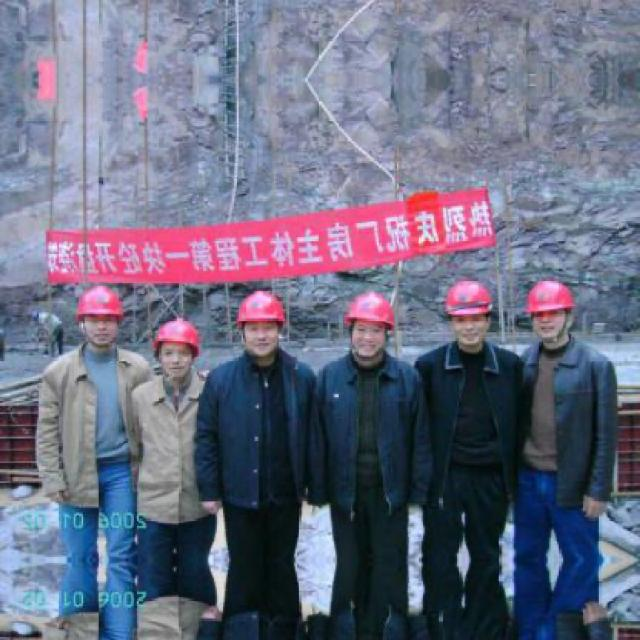con casco: (70, 250, 156, 390), (440, 262, 510, 387), (342, 270, 418, 380), (523, 262, 599, 369), (236, 266, 307, 377), (164, 293, 226, 388)
